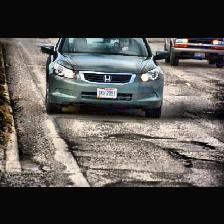pothole: (102, 180, 196, 186), (107, 132, 149, 142)
